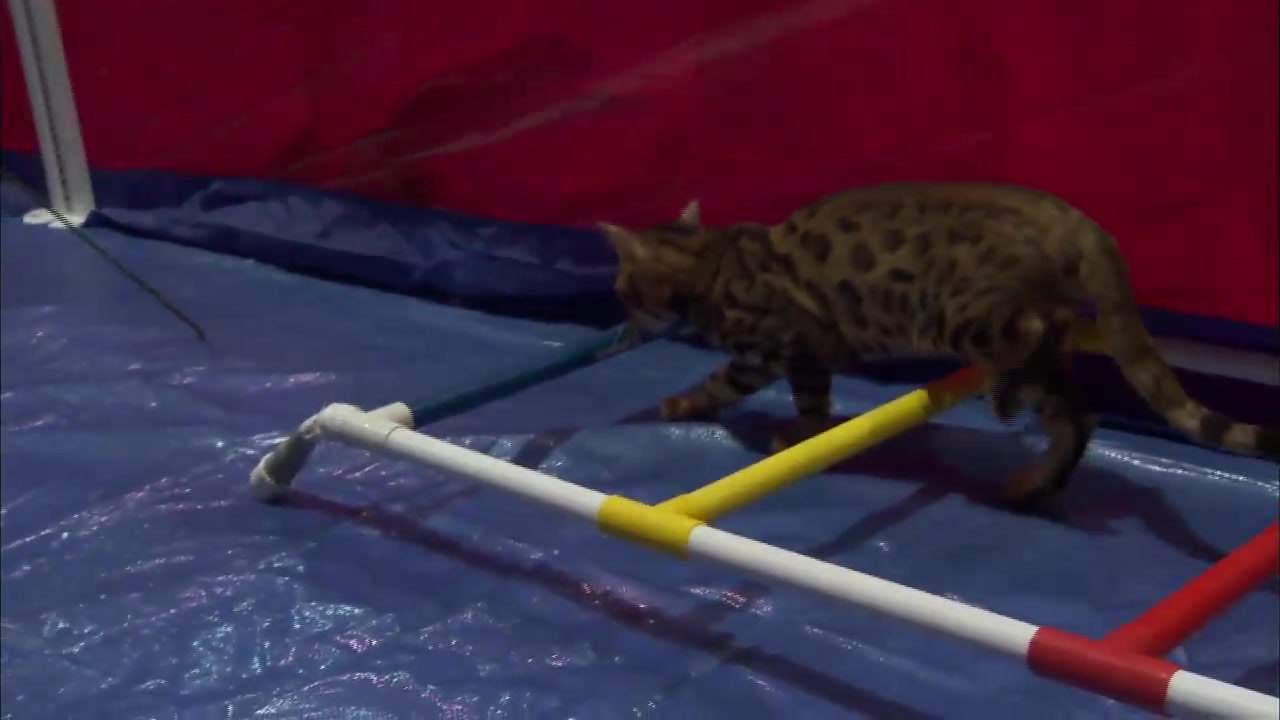cat: (599, 188, 1277, 503)
